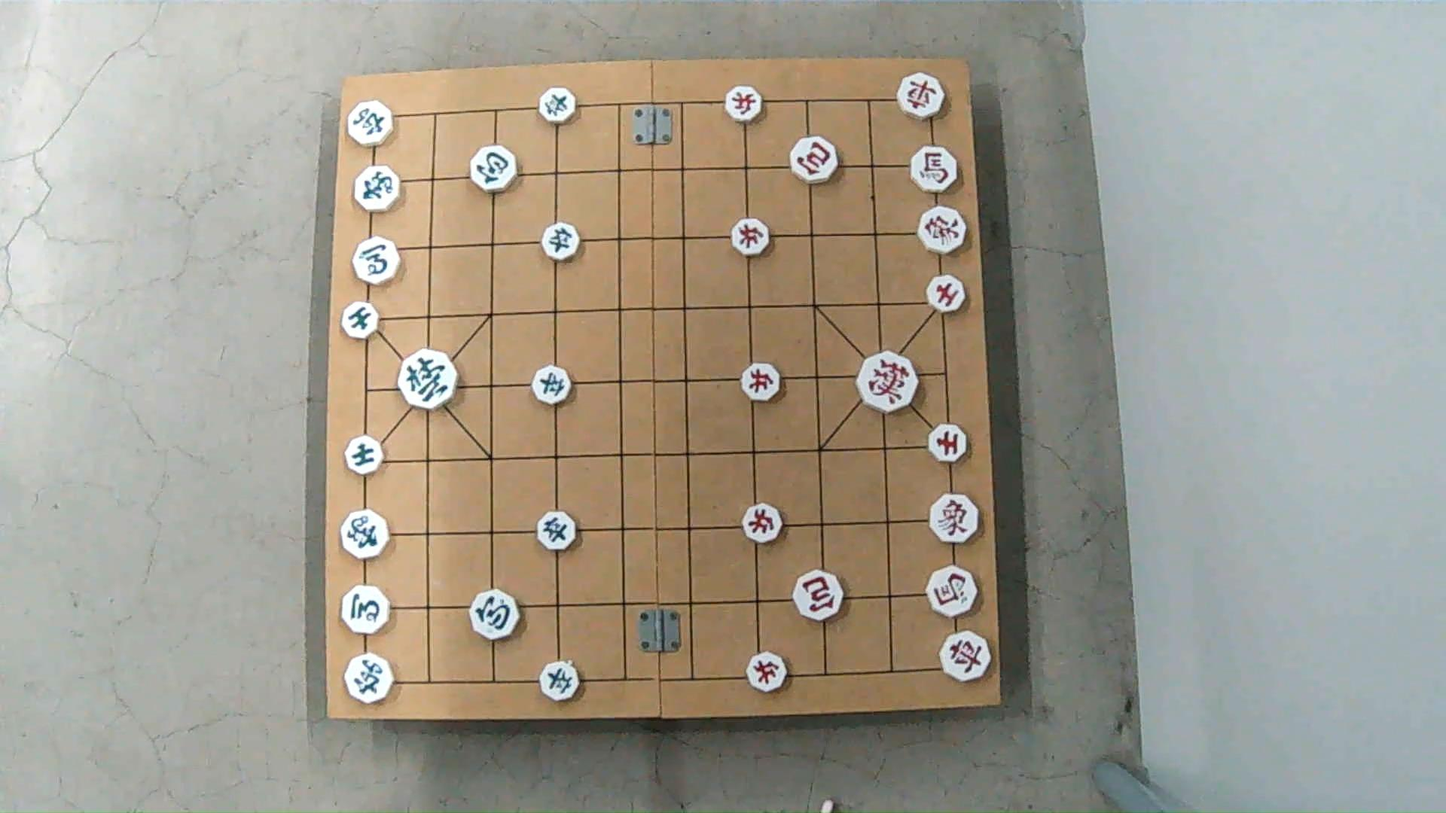cha_green: (345, 656, 398, 702), (346, 104, 395, 147)
cha_red: (939, 632, 993, 680), (895, 74, 947, 115)
jol_green: (539, 662, 584, 699), (533, 367, 575, 403), (535, 515, 578, 550), (541, 225, 581, 260), (538, 89, 578, 122)
jol_red: (741, 506, 785, 542), (747, 655, 790, 691), (739, 365, 782, 400), (729, 221, 772, 254), (723, 89, 766, 121)
ma_green: (339, 589, 392, 635), (352, 239, 402, 280)
ma_red: (929, 569, 981, 615), (911, 148, 961, 190)
po_green: (467, 143, 519, 192), (468, 593, 520, 638)
po_red: (793, 573, 847, 618), (791, 139, 843, 181)
sa_green: (343, 439, 384, 473), (342, 304, 382, 338)
sa_red: (927, 422, 972, 466), (926, 273, 966, 316)
sang_green: (338, 509, 392, 562), (351, 163, 404, 214)
sang_red: (926, 495, 984, 543), (915, 207, 968, 251)
wang_green: (396, 352, 459, 406)
wang_red: (856, 355, 919, 410)
